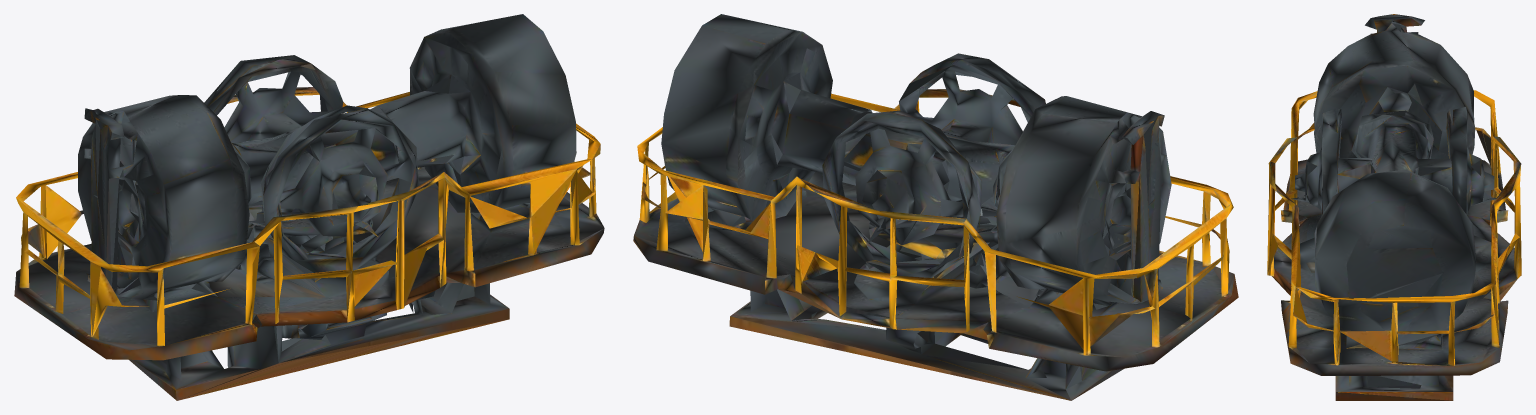
The model's file is fv_bullwheel.glb.
The picture shows the model from 3 angles, left to right: view 1: azimuth 30°, elevation 25°; view 2: azimuth 150°, elevation 25°; view 3: azimuth 270°, elevation 25°; orthographic projection. The views are drawn at different scales.
Visible parts, largest first — view 1: fv_bullwheel; view 2: fv_bullwheel; view 3: fv_bullwheel.
Part boxes in pixels (bbox=[...]): fv_bullwheel: bbox=[14, 14, 604, 400]; fv_bullwheel: bbox=[633, 14, 1238, 400]; fv_bullwheel: bbox=[1267, 14, 1521, 400].
Bounding box in the file's own units: 4.98 × 2.52 × 2.52.
1 material, 1 textured.
